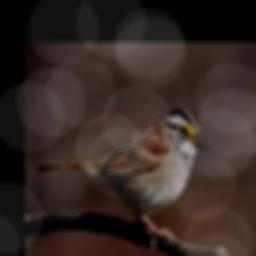Sparrow: (38, 109, 204, 253)
